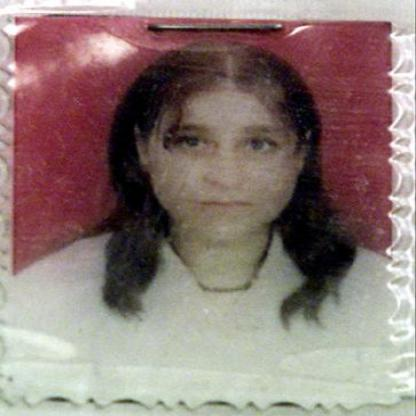face: (149, 47, 305, 242)
